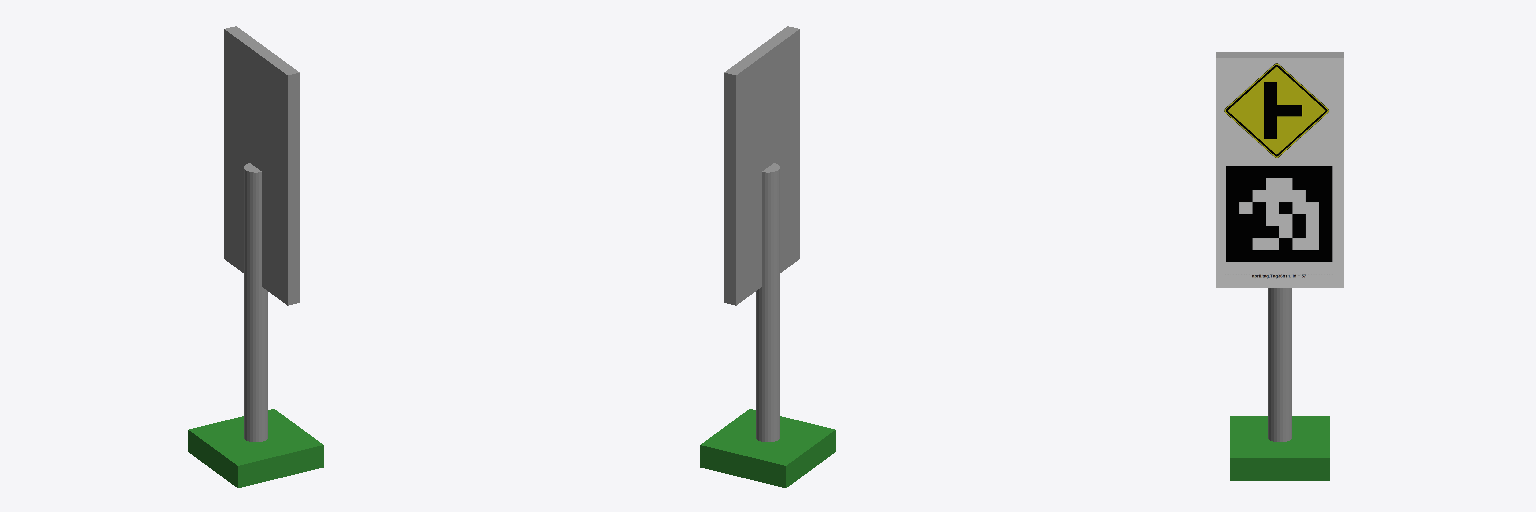
The picture shows the model from 3 angles: view 1: azimuth 30°, elevation 25°; view 2: azimuth 150°, elevation 25°; view 3: azimuth 270°, elevation 25°; orthographic projection.
Parts seen in each view (by area): view 1: SketchUp.002_ID23, SketchUp_ID2, SketchUp.001_ID10; view 2: SketchUp.002_ID23, SketchUp_ID2, SketchUp.001_ID10; view 3: SketchUp.003_ID31, SketchUp_ID2, SketchUp.001_ID10, SketchUp.002_ID23.
Boxes of the visible parts, x1,y1,x2,y2 form: SketchUp.002_ID23: [224, 26, 299, 305]; SketchUp_ID2: [188, 409, 323, 487]; SketchUp.001_ID10: [244, 163, 267, 441]; SketchUp.002_ID23: [724, 26, 799, 305]; SketchUp_ID2: [700, 409, 835, 487]; SketchUp.001_ID10: [756, 163, 779, 441]; SketchUp.003_ID31: [1216, 58, 1343, 287]; SketchUp_ID2: [1230, 416, 1329, 480]; SketchUp.001_ID10: [1268, 288, 1291, 441]; SketchUp.002_ID23: [1216, 52, 1343, 57].
Bounding box in the file's own units: 0.0508 × 0.2301 × 0.065.
3 materials, 1 textured.